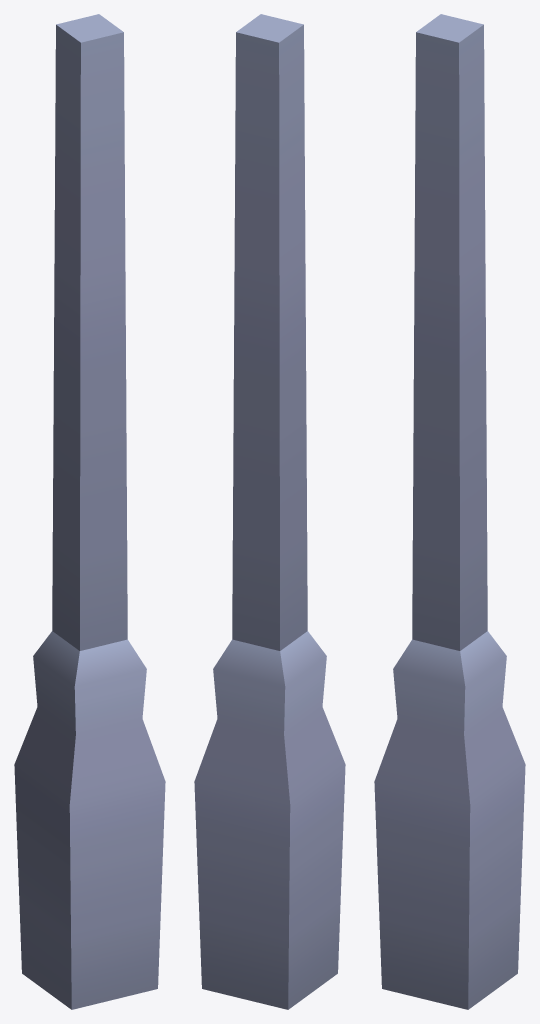
Rendered from road-sign-empty.glb.
3 renders of one model, left to right at view 1: azimuth 30°, elevation 25°; view 2: azimuth 150°, elevation 25°; view 3: azimuth 330°, elevation 25°, orthographic.
Visible parts, largest first — view 1: road-sign-empty; view 2: road-sign-empty; view 3: road-sign-empty.
Boxes of the visible parts, bbox=[...] form: road-sign-empty: bbox=[14, 14, 165, 1009]; road-sign-empty: bbox=[194, 14, 345, 1009]; road-sign-empty: bbox=[374, 14, 525, 1009].
Bounding box in the file's own units: 0.05 × 0.475 × 0.05.
Materials: 1 (1 with a texture image).
